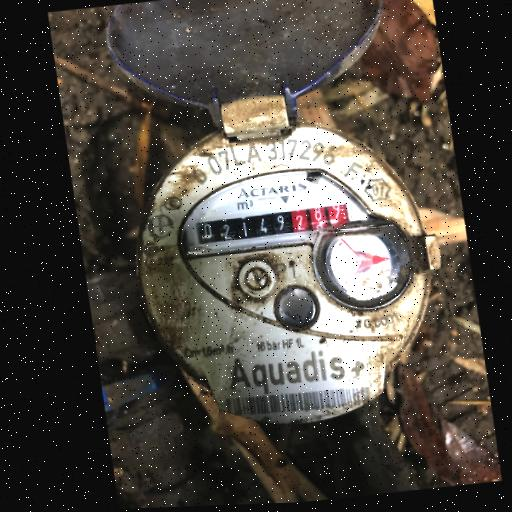0: (199, 221, 215, 244)
1: (236, 216, 256, 239)
2: (217, 219, 237, 242), (292, 209, 309, 232)
4: (255, 214, 273, 237)
8: (308, 206, 328, 230)
9: (327, 204, 349, 228), (272, 212, 291, 236)
border_water_meter_number: (191, 198, 353, 250)
